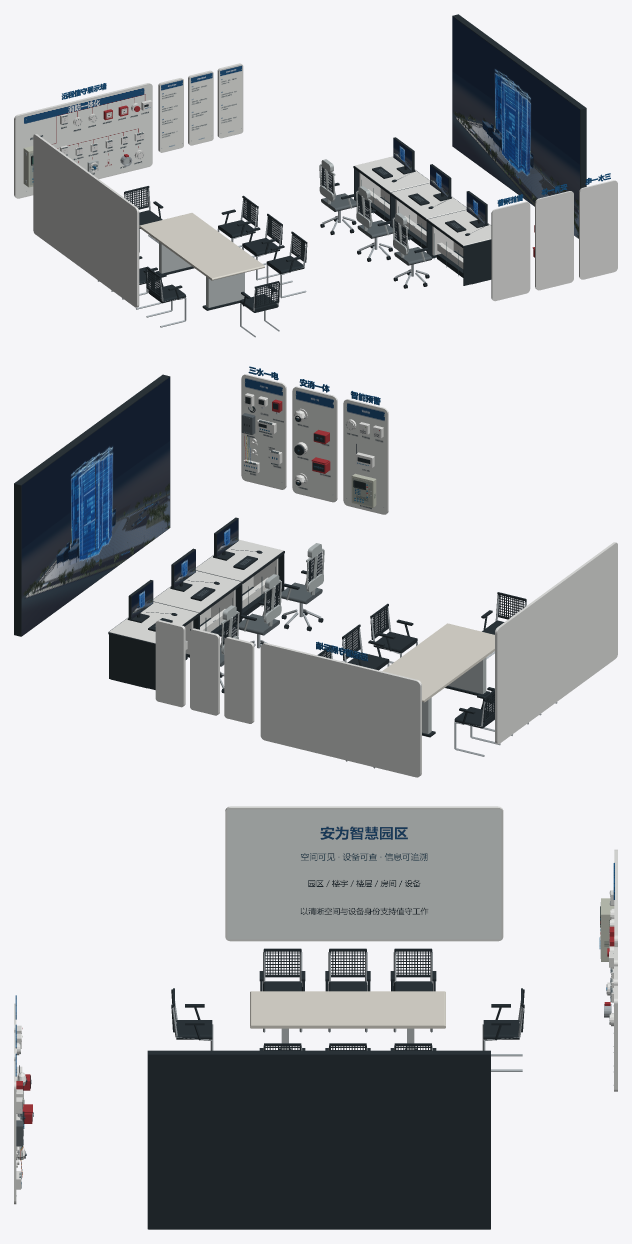
The model's file is fire-stage-lod1.glb.
3 views of the same model, one above another, from view 1: azimuth 30°, elevation 25°; view 2: azimuth 150°, elevation 25°; view 3: azimuth 270°, elevation 25° (orthographic). The views are drawn at different scales.
Visible parts, largest first — view 1: V6_STAGE_FC_PAINTED, V6_STAGE_TEX_screen-main, V6_STAGE_FC_DARK, V6_STAGE_TEX_board-01, V6_STAGE_FC_METAL, V6_STAGE_TEX_rules-01, V6_STAGE_TEX_rules-03, V6_STAGE_TEX_rules-02, V6_STAGE_FC_BLUE; view 2: V6_STAGE_FC_PAINTED, V6_STAGE_TEX_screen-main, V6_STAGE_FC_DARK, V6_STAGE_TEX_board-03, V6_STAGE_TEX_board-02, V6_STAGE_TEX_board-04, V6_STAGE_FC_METAL, V6_STAGE_FC_BLUE; view 3: V6_STAGE_FC_DARK, V6_STAGE_TEX_company, V6_STAGE_FC_PAINTED, V6_STAGE_FC_METAL.
Part boxes in pixels (<box>): V6_STAGE_FC_PAINTED: <box>14,63,617,307</box>; V6_STAGE_TEX_screen-main: <box>452,16,579,238</box>; V6_STAGE_FC_DARK: <box>31,14,586,312</box>; V6_STAGE_TEX_board-01: <box>16,84,151,198</box>; V6_STAGE_FC_METAL: <box>25,69,451,337</box>; V6_STAGE_TEX_rules-01: <box>160,79,183,152</box>; V6_STAGE_TEX_rules-03: <box>219,65,242,137</box>; V6_STAGE_TEX_rules-02: <box>190,72,212,145</box>; V6_STAGE_FC_BLUE: <box>61,83,610,206</box>; V6_STAGE_FC_PAINTED: <box>109,374,617,777</box>; V6_STAGE_TEX_screen-main: <box>21,377,169,635</box>; V6_STAGE_FC_DARK: <box>14,374,526,737</box>; V6_STAGE_TEX_board-03: <box>293,388,335,501</box>; V6_STAGE_TEX_board-02: <box>242,375,284,489</box>; V6_STAGE_TEX_board-04: <box>344,400,386,514</box>; V6_STAGE_FC_METAL: <box>185,382,557,768</box>; V6_STAGE_FC_BLUE: <box>248,366,380,661</box>; V6_STAGE_FC_DARK: <box>18,891,612,1229</box>; V6_STAGE_TEX_company: <box>227,809,501,939</box>; V6_STAGE_FC_PAINTED: <box>14,806,617,1204</box>; V6_STAGE_FC_METAL: <box>16,862,614,1195</box>.
Size of the model in its own units: 7.95 by 2.86 by 7.39.
18 materials, 13 textured.
